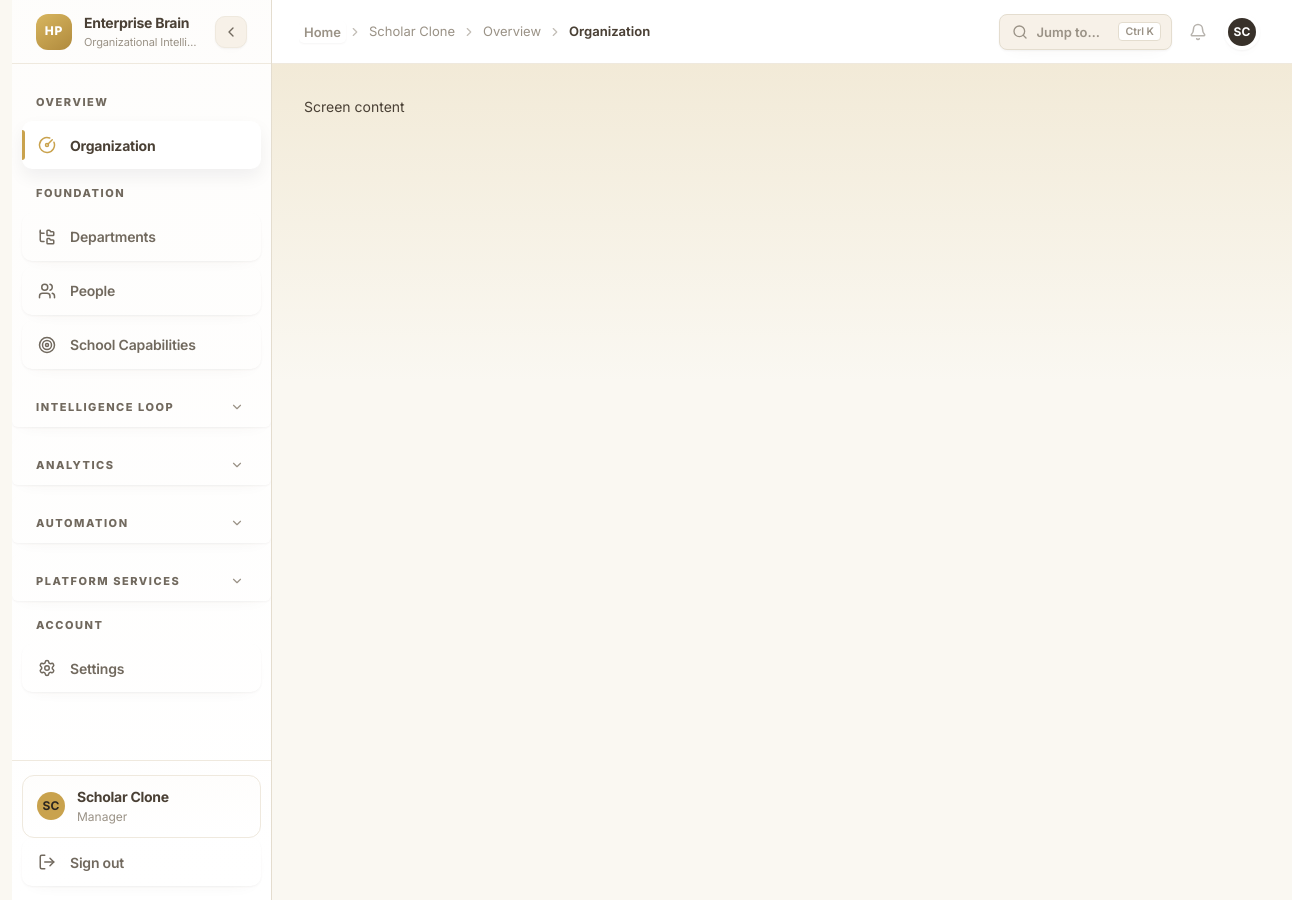
it: user menu › narrows Platform Services to what a manager may reach
What coordinates should you click on to do the following:
click the button with aria-label "Account menu for Scholar Clone"
I would click on:
 (1242, 32)
Its box is [1224,14,1260,50].
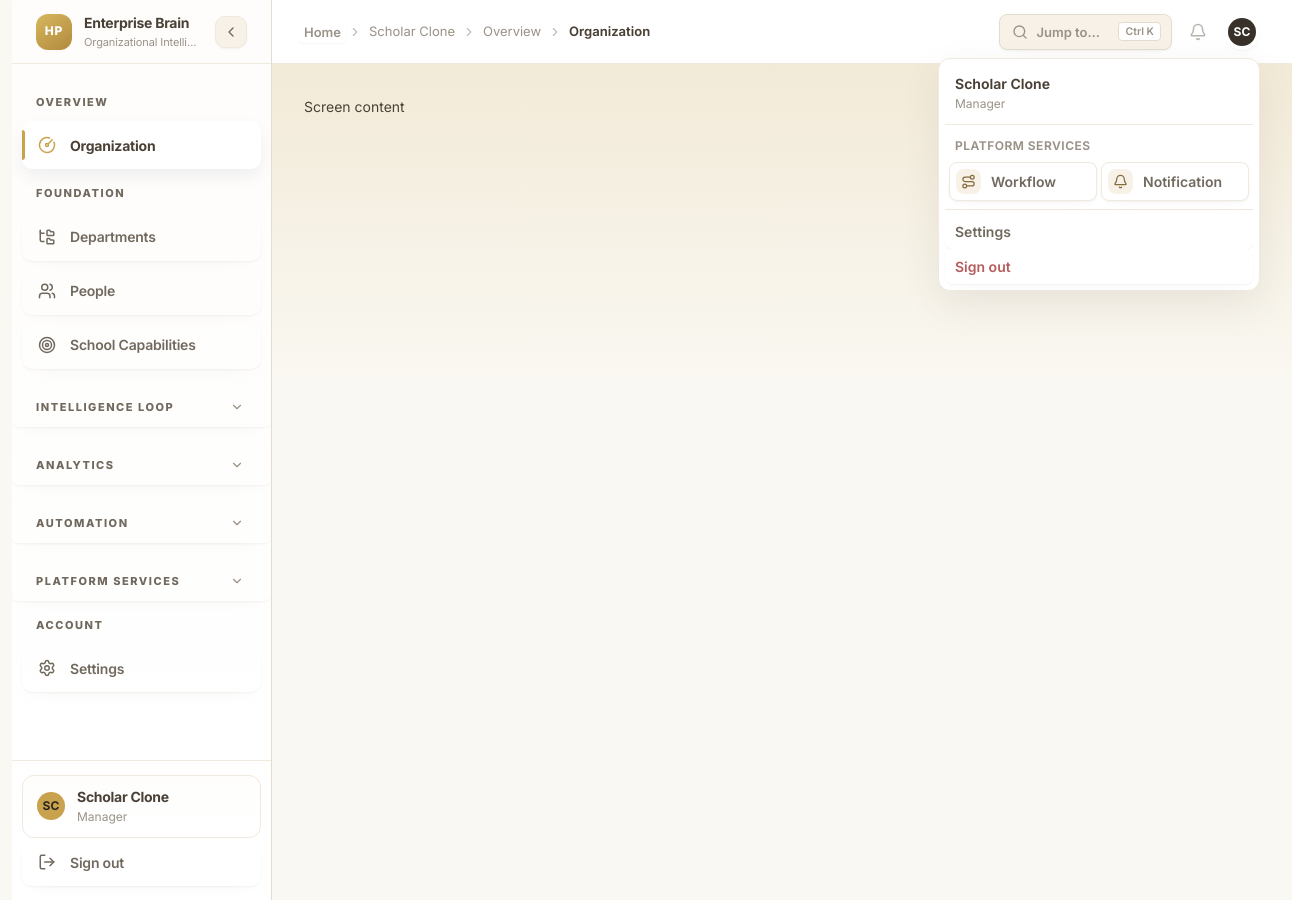
Now the menu items read "Workflow", "Notification", in this order, box [949,162,1097,200]; [1101,162,1249,200]
